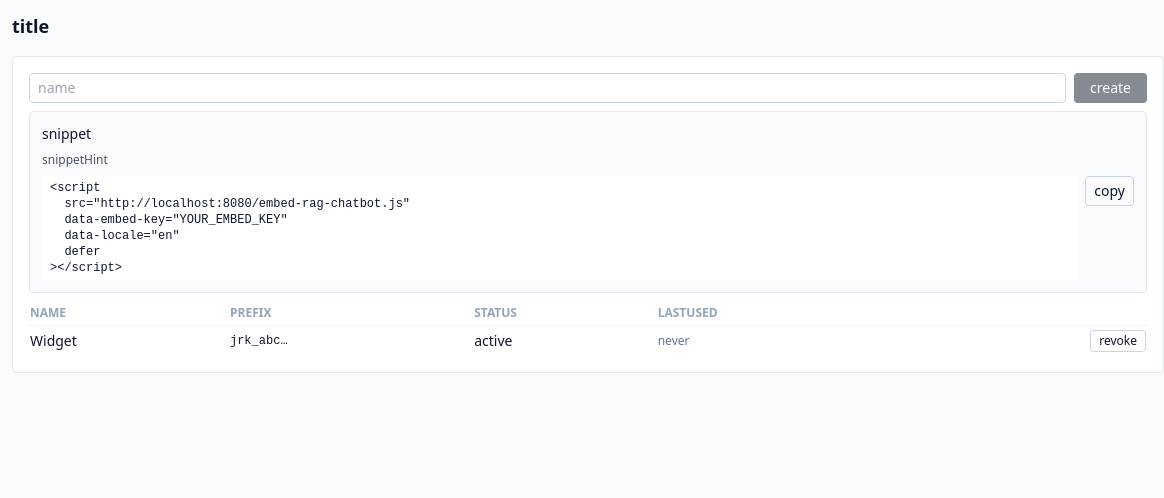
Test case: EmbedKeysPanel › lists keys and reveals a newly created one once
Expected: the text "Widget" is shown, [29,326,229,356]
Type "New" into the field with placeholder "name".
click(548, 88); type("New")  # box [29,73,1066,103]
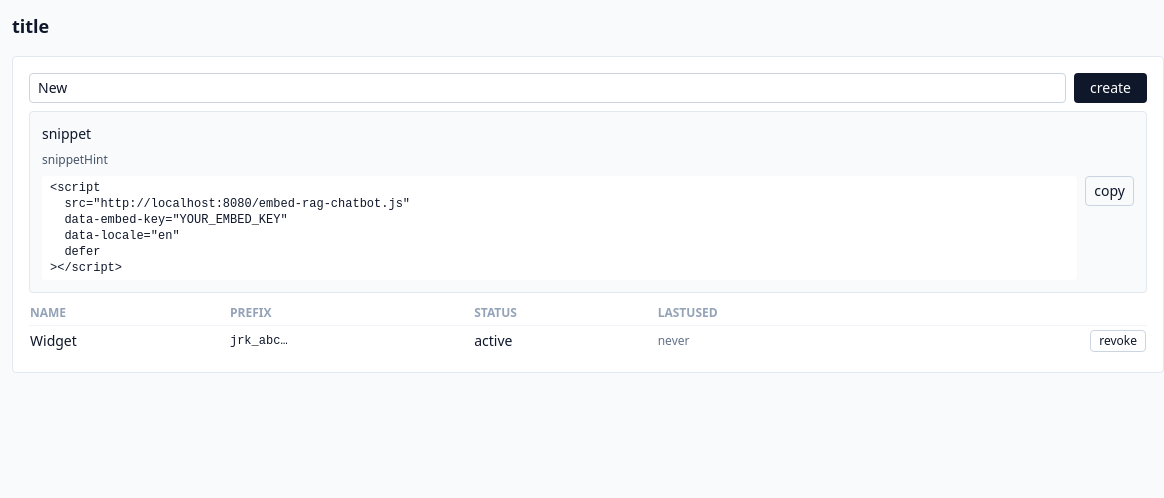
Click the button "create".
click(1111, 88)  # box [1074,73,1147,103]
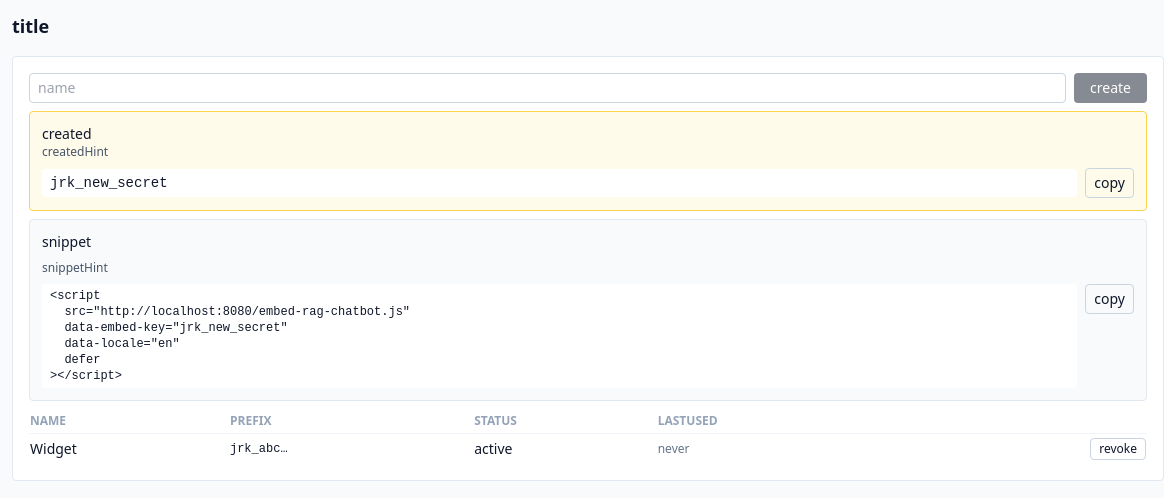
Expected: the text "jrk_new_secret" is shown, [42,169,1077,197]
